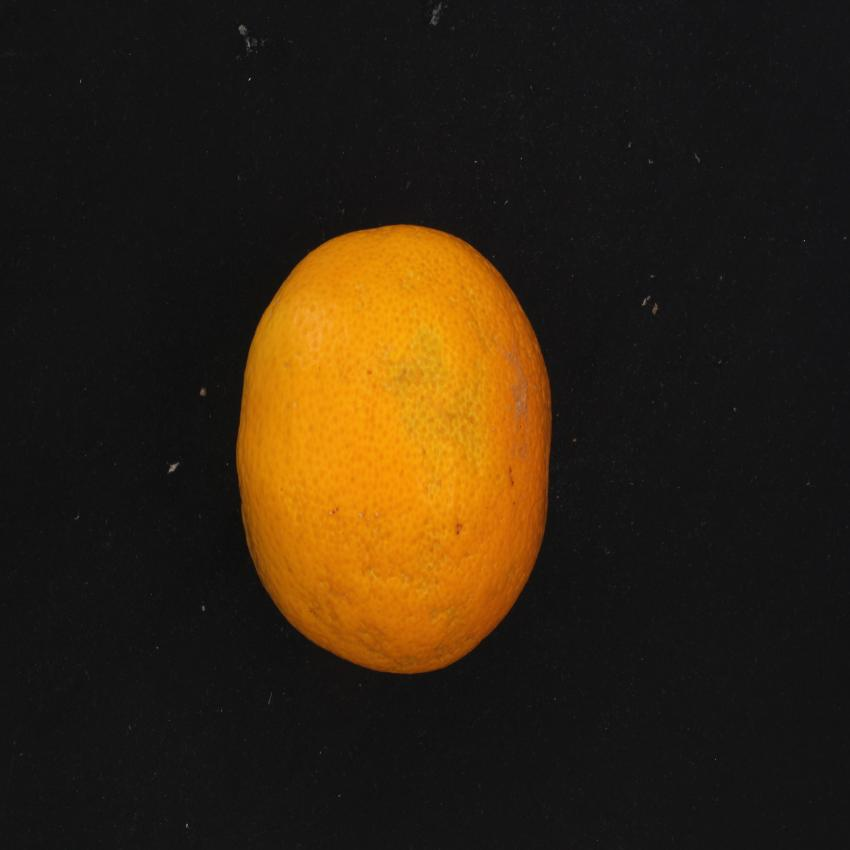Buen estado: (226, 207, 566, 696)
